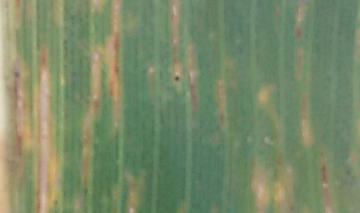tarspot: (172, 73, 183, 83), (13, 71, 20, 81)
